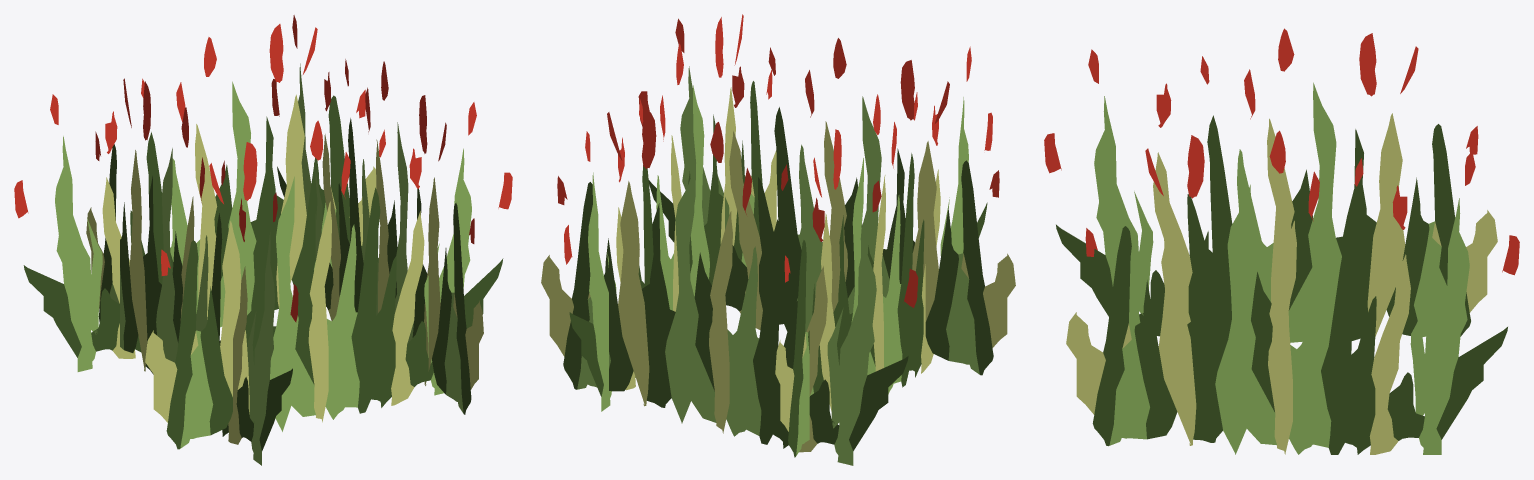
Rendered from Grass03.fbx.
The picture shows the model from 3 angles, left to right: view 1: azimuth 30°, elevation 25°; view 2: azimuth 150°, elevation 25°; view 3: azimuth 270°, elevation 25°; orthographic projection. The views are drawn at different scales.
Visible parts, largest first — view 1: Group_2_2, Group_2_1, Group_2_3, Group_2_4; view 2: Group_2_1, Group_2_2, Group_2_3, Group_2_4; view 3: Group_2_4, Group_2_3.
Part boxes in pixels (x1,y1,x2,y2): Group_2_2: [145, 102, 512, 449]; Group_2_1: [14, 24, 376, 371]; Group_2_3: [86, 78, 298, 465]; Group_2_4: [271, 15, 483, 414]; Group_2_1: [541, 108, 918, 465]; Group_2_2: [638, 18, 1015, 375]; Group_2_3: [775, 46, 992, 457]; Group_2_4: [564, 14, 777, 411]; Group_2_4: [1066, 130, 1519, 454]; Group_2_3: [1044, 28, 1497, 345].
Bounding box in the file's own units: 1.17 × 0.8796 × 1.17.
